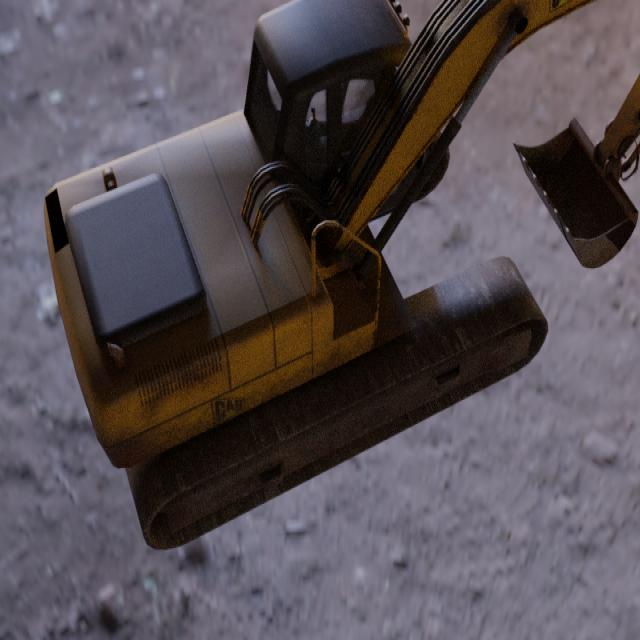excavator: (42, 0, 640, 552)
